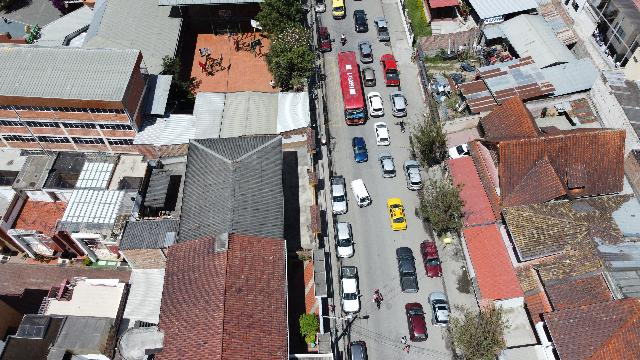Vehiculo: (338, 266, 362, 314), (396, 247, 418, 293), (405, 302, 427, 342), (420, 240, 442, 278), (334, 222, 356, 258), (428, 292, 450, 328), (330, 175, 348, 214), (380, 54, 400, 86), (351, 178, 372, 207), (388, 198, 407, 230), (403, 160, 422, 190), (378, 152, 397, 178), (390, 91, 408, 117), (367, 92, 385, 118), (347, 340, 368, 360), (352, 137, 368, 163), (374, 122, 390, 146), (374, 17, 390, 41), (318, 26, 332, 52), (358, 41, 374, 63), (447, 143, 469, 159), (354, 10, 368, 32), (362, 67, 376, 87), (332, 0, 346, 20), (314, 1, 326, 14)
